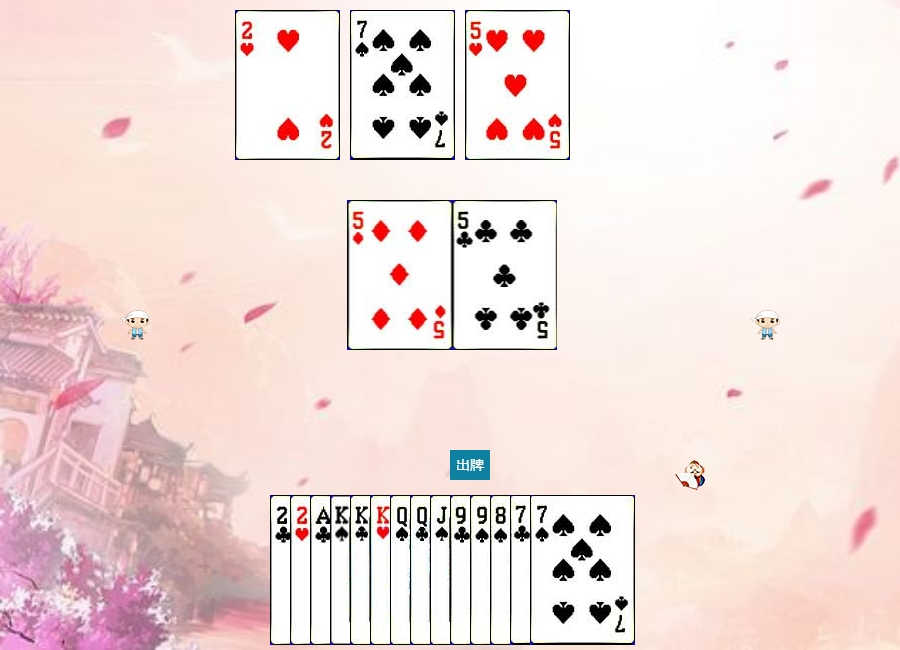11~4: (430, 495, 535, 645)
12~2: (410, 495, 515, 645)
12~4: (390, 495, 495, 645)
13~2: (350, 495, 455, 645)
13~3: (370, 495, 475, 645)
13~4: (330, 495, 435, 645)
14~2: (310, 495, 415, 645)
15~2: (270, 495, 375, 645)
15~3: (235, 10, 340, 160), (290, 495, 395, 645)
5~1: (348, 200, 453, 350)
5~2: (453, 200, 558, 350)
5~3: (465, 10, 570, 160)
7~2: (510, 495, 615, 645)
7~4: (350, 10, 455, 160), (530, 495, 635, 645)
8~4: (490, 495, 595, 645)
9~2: (450, 495, 555, 645)
9~4: (470, 495, 575, 645)
